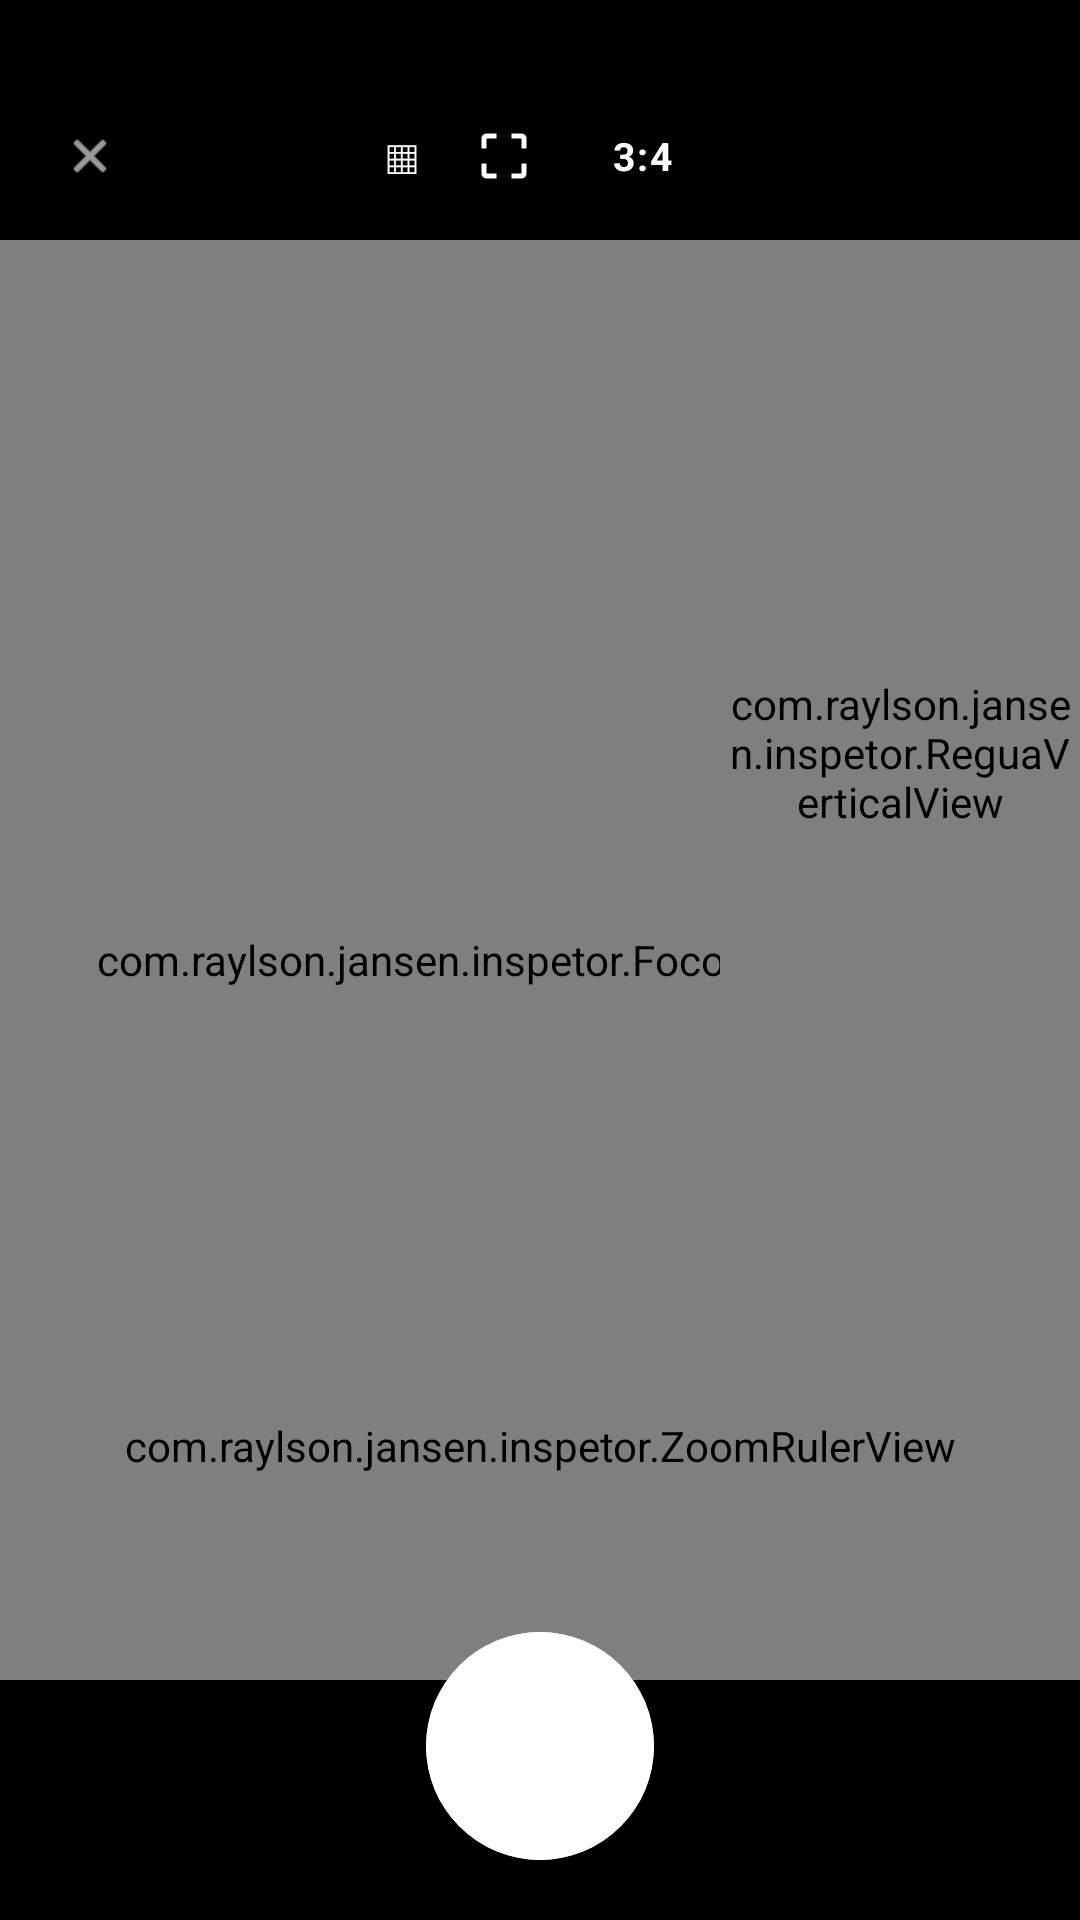

Where icons sit on this 1080px x 1920px app screen, as bbox(x1, y1, x2, y2):
Fechar câmera: bbox(73, 139, 107, 173)
